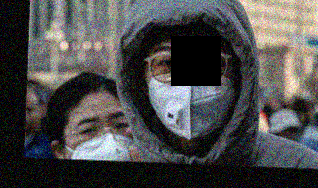with_mask: (143, 40, 236, 143), (62, 106, 136, 160)
